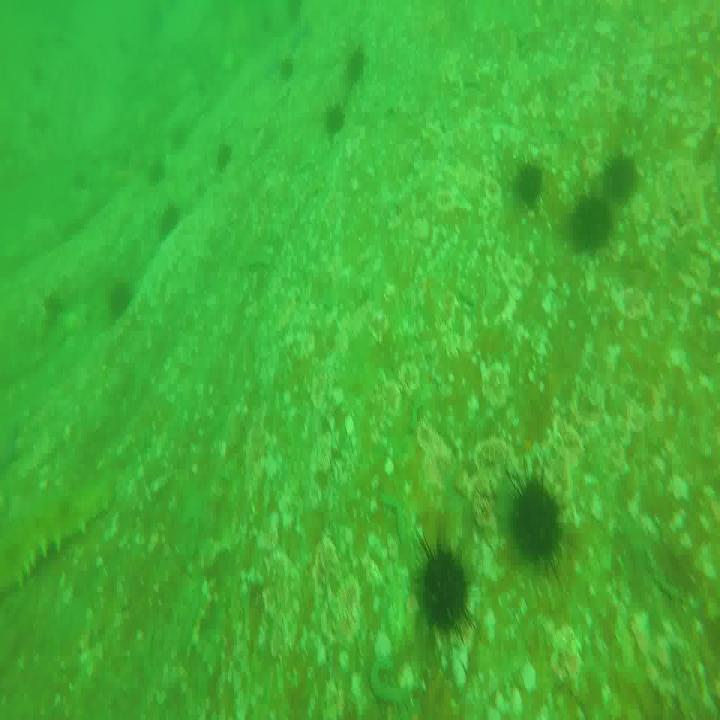echinus: (419, 539, 474, 638), (512, 473, 562, 572), (570, 194, 614, 255), (606, 145, 642, 211), (514, 160, 545, 210), (107, 285, 130, 325), (346, 44, 368, 84), (324, 102, 350, 133), (214, 135, 234, 172), (171, 122, 193, 150), (160, 205, 178, 238), (148, 159, 167, 182), (280, 55, 296, 82)
holothurian: (0, 482, 114, 600)
